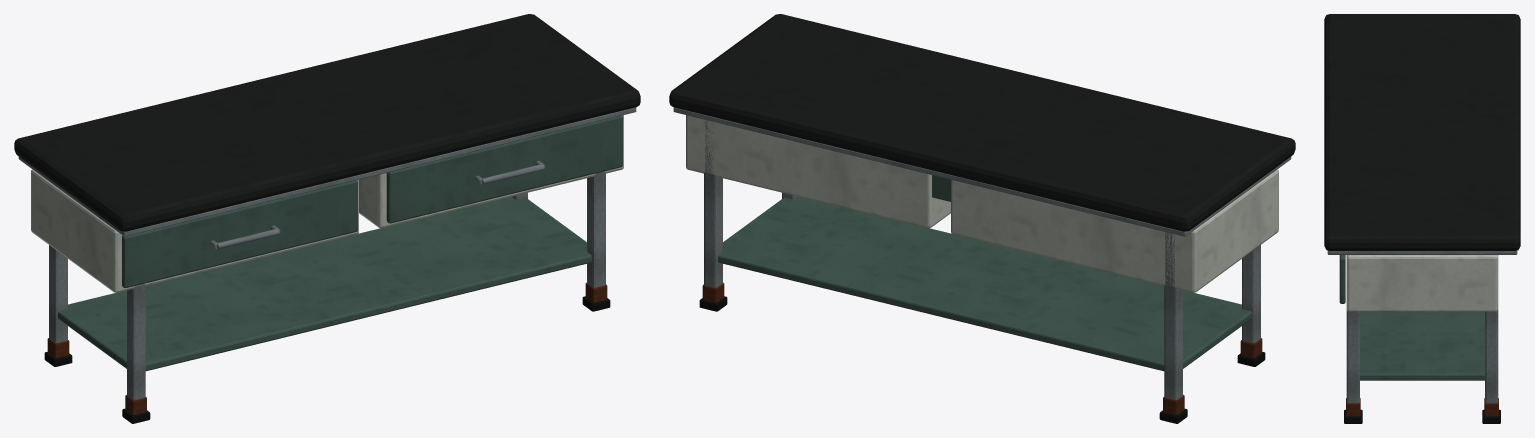
Rendered from Lab_Bench.fbx.
The picture shows the model from 3 angles, left to right: view 1: azimuth 30°, elevation 25°; view 2: azimuth 150°, elevation 25°; view 3: azimuth 270°, elevation 25°; orthographic projection. The views are drawn at different scales.
Parts seen in each view (by area): view 1: Lab_Bench_prop; view 2: Lab_Bench_prop; view 3: Lab_Bench_prop.
Part boxes in pixels (box(x1,y1,x2,y2)): Lab_Bench_prop: box(14, 14, 640, 423); Lab_Bench_prop: box(669, 14, 1295, 423); Lab_Bench_prop: box(1324, 14, 1520, 423).
Bounding box in the file's own units: 2.4 × 0.9675 × 0.88.
Materials: 6 (6 with a texture image).
